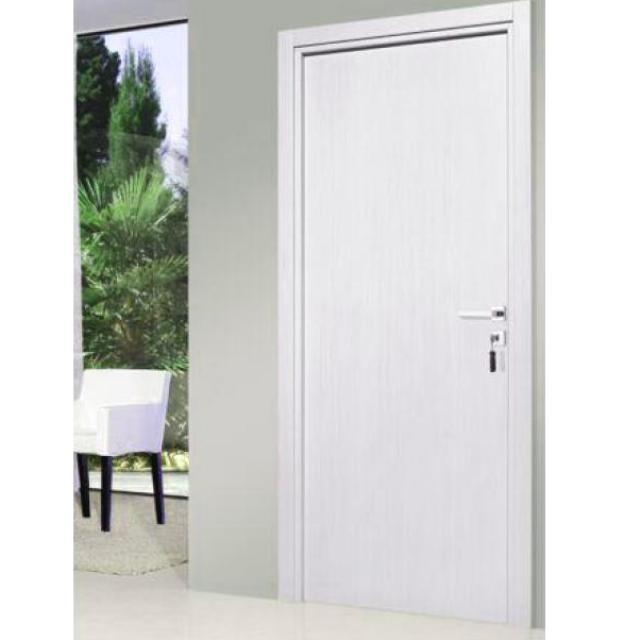door: (279, 3, 534, 628)
